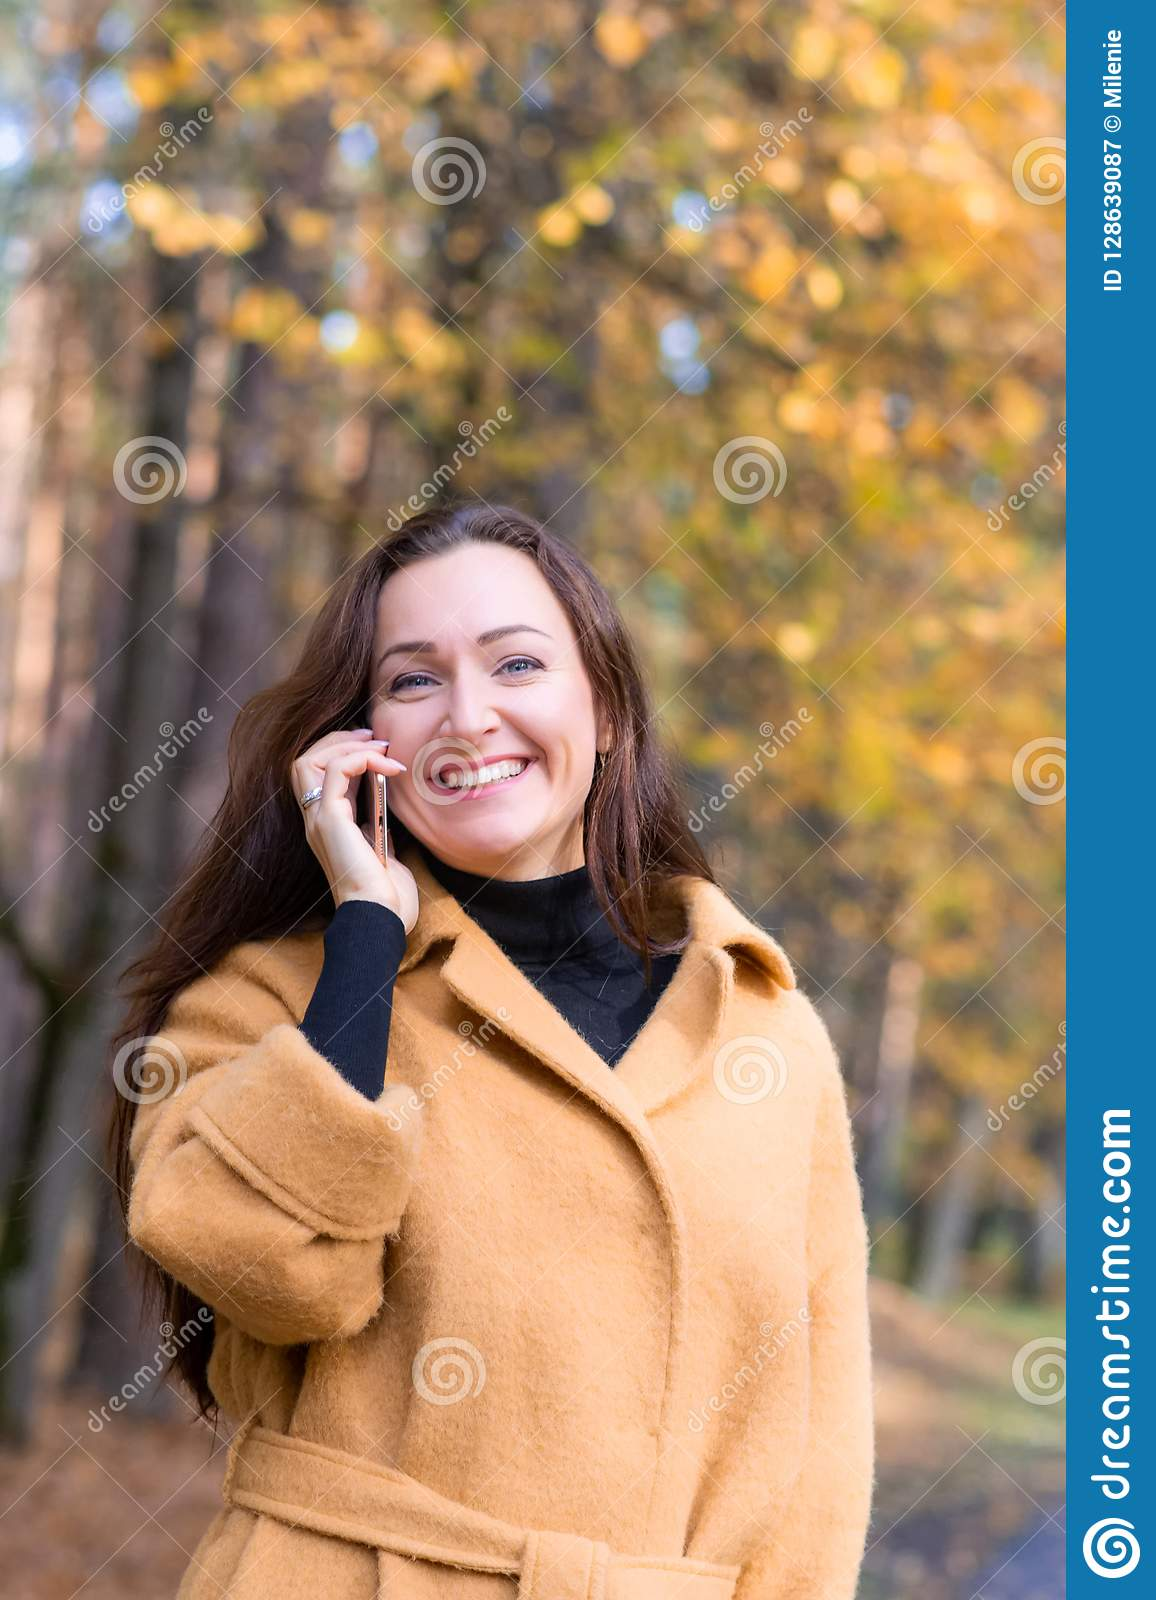phone: (346, 753, 405, 880)
talk: (296, 625, 561, 906)
